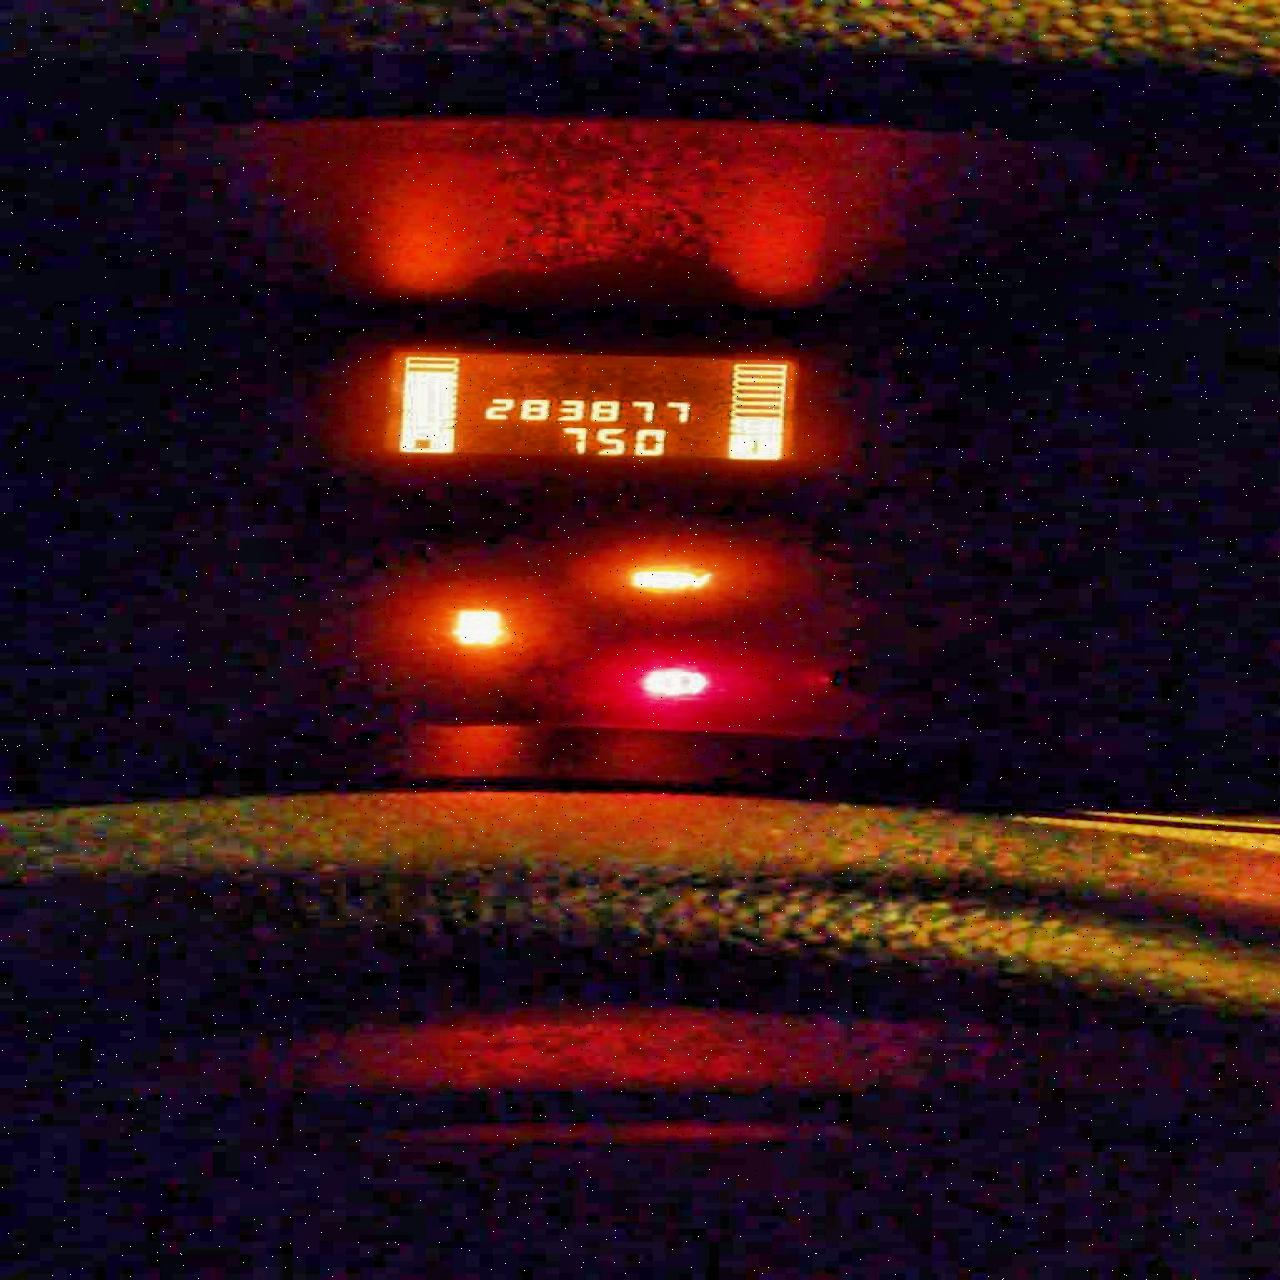0: (631, 427, 666, 456)
2: (483, 396, 515, 420)
3: (556, 399, 584, 421)
5: (592, 427, 626, 456)
7: (558, 425, 587, 455), (662, 400, 690, 422), (629, 400, 654, 422)
8: (518, 397, 550, 421), (587, 400, 619, 422)
odometer: (376, 348, 801, 464)
